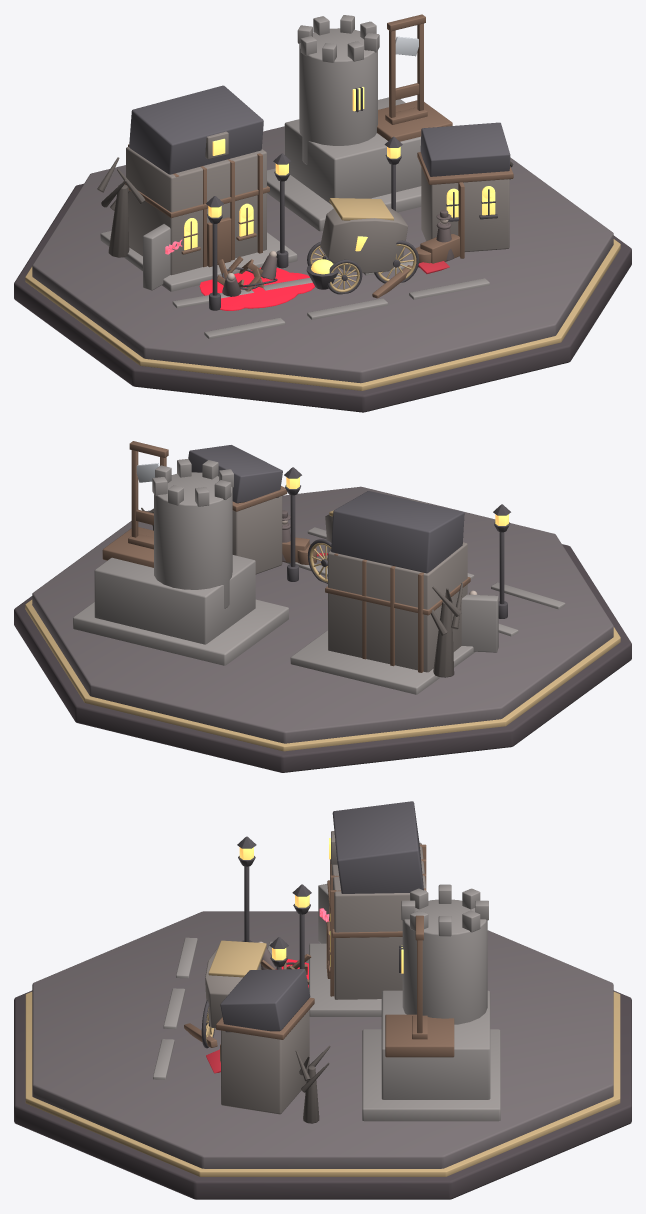
File: paris_act1.glb
The picture shows the model from 3 angles, top to bottom: view 1: azimuth 30°, elevation 25°; view 2: azimuth 150°, elevation 25°; view 3: azimuth 270°, elevation 25°; orthographic projection. The views are drawn at different scales.
Visible parts, largest first — view 1: Paris_PlinthDeck, Paris_PlinthLower, Par_WineShop_Body, Par_Mansard, Par_BastilleTower, Par_BastilleWall, Paris_PlinthBrass, Par_TenementWallE, Par_TenementMansardE, Par_MarquisHull, Paris_Sidewalk_NE, Paris_Sidewalk_NW (+15 smaller); view 2: Paris_PlinthDeck, Paris_PlinthLower, Par_WineShop_Body, Par_BastilleWall, Par_Mansard, Par_BastilleTower, Paris_PlinthBrass, Paris_Sidewalk_NE, Paris_Sidewalk_NW, Par_TenementWallE, Par_TenementMansardE, Par_BloodWall (+8 smaller); view 3: Paris_PlinthDeck, Paris_PlinthLower, Par_BastilleTower, Par_Mansard, Par_WineShop_Body, Paris_PlinthBrass, Par_BastilleWall, Par_TenementWallE, Paris_Sidewalk_NE, Par_TenementMansardE, Par_ScaffoldDeck, Paris_Sidewalk_NW (+8 smaller).
Part boxes in pixels (x1=…): Paris_PlinthDeck: x1=32, y1=126, x2=613, y2=383; Paris_PlinthLower: x1=14, y1=183, x2=631, y2=412; Par_WineShop_Body: x1=126, y1=147, x2=266, y2=275; Par_Mansard: x1=129, y1=85, x2=263, y2=174; Par_BastilleTower: x1=299, y1=28, x2=377, y2=164; Par_BastilleWall: x1=284, y1=97, x2=421, y2=204; Paris_PlinthBrass: x1=25, y1=239, x2=620, y2=390; Par_TenementWallE: x1=421, y1=167, x2=509, y2=251; Par_TenementMansardE: x1=420, y1=122, x2=510, y2=176; Par_MarquisHull: x1=320, y1=204, x2=408, y2=273; Paris_Sidewalk_NE: x1=267, y1=168, x2=421, y2=231; Paris_Sidewalk_NW: x1=100, y1=230, x2=297, y2=291; Paris_PlinthDeck: x1=32, y1=486, x2=613, y2=743; Paris_PlinthLower: x1=14, y1=544, x2=631, y2=772; Par_WineShop_Body: x1=328, y1=542, x2=467, y2=672; Par_BastilleWall: x1=94, y1=555, x2=255, y2=644; Par_Mansard: x1=331, y1=491, x2=464, y2=573; Par_BastilleTower: x1=154, y1=472, x2=232, y2=608; Paris_PlinthBrass: x1=25, y1=599, x2=620, y2=751; Paris_Sidewalk_NE: x1=73, y1=599, x2=288, y2=665; Paris_Sidewalk_NW: x1=290, y1=630, x2=475, y2=694; Par_TenementWallE: x1=232, y1=496, x2=282, y2=574; Par_TenementMansardE: x1=188, y1=445, x2=282, y2=503; Par_BloodWall: x1=461, y1=594, x2=498, y2=652; Paris_PlinthDeck: x1=32, y1=911, x2=613, y2=1168; Paris_PlinthLower: x1=14, y1=990, x2=631, y2=1199; Par_BastilleTower: x1=402, y1=899, x2=487, y2=1024; Par_Mansard: x1=332, y1=801, x2=423, y2=893; Par_WineShop_Body: x1=330, y1=842, x2=426, y2=999; Paris_PlinthBrass: x1=25, y1=991, x2=620, y2=1176; Par_BastilleWall: x1=381, y1=990, x2=490, y2=1099; Par_TenementWallE: x1=221, y1=1010, x2=309, y2=1114; Paris_Sidewalk_NE: x1=362, y1=1029, x2=500, y2=1121; Par_TenementMansardE: x1=220, y1=969, x2=310, y2=1032; Par_ScaffoldDeck: x1=385, y1=1014, x2=454, y2=1057; Paris_Sidewalk_NW: x1=309, y1=943, x2=381, y2=1016.
Size of the model in its own units: 13.4 by 5.08 by 13.4.
